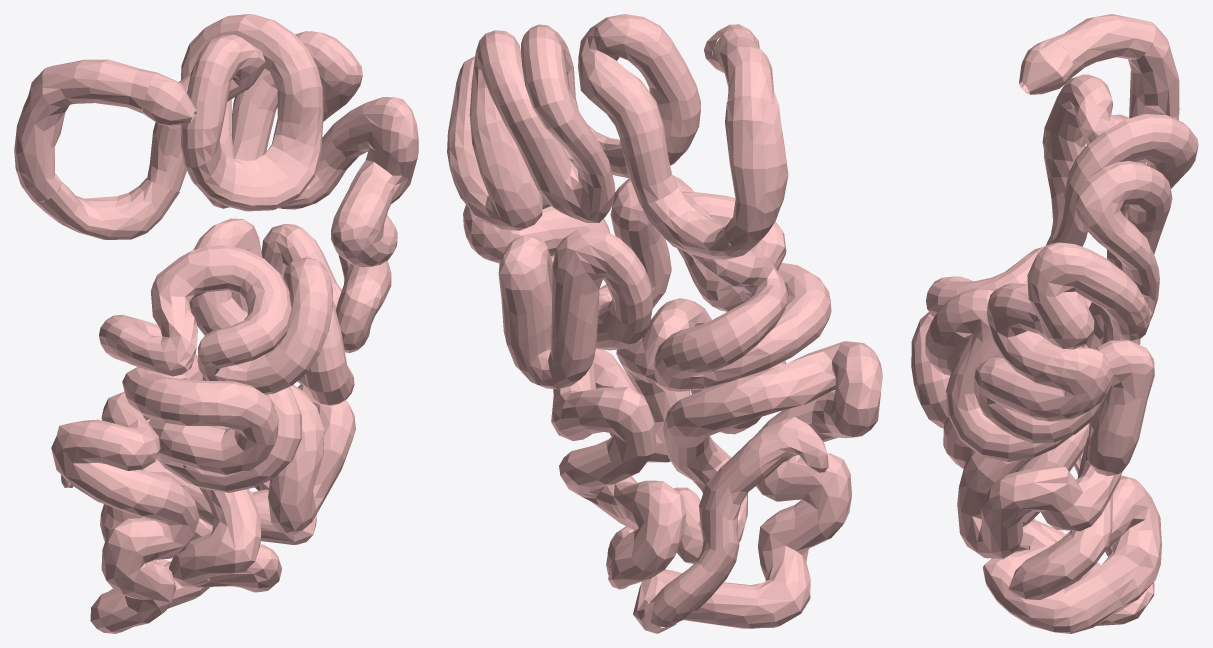
The model's file is VH_M_Small_Intestine_0.4.glb.
The picture shows the model from 3 angles, left to right: view 1: azimuth 30°, elevation 25°; view 2: azimuth 150°, elevation 25°; view 3: azimuth 270°, elevation 25°; orthographic projection. The views are drawn at different scales.
Parts seen in each view (by area): view 1: VH_M_jejunum, VH_M_ileum, VH_M_duodenum_horizonal, VH_M_duodenum_superior, VH_M_duodenum_descending, VH_M_duodenum_ascending, VH_M_duodenal_ampulla, VH_M_ileum_terminal; view 2: VH_M_jejunum, VH_M_ileum, VH_M_ileum_terminal, VH_M_duodenum_descending, VH_M_duodenum_ascending, VH_M_duodenum_horizonal, VH_M_duodenum_superior; view 3: VH_M_jejunum, VH_M_ileum, VH_M_duodenum_superior, VH_M_duodenum_descending, VH_M_duodenal_ampulla.
Part boxes in pixels (x1,y1,x2,y2): VH_M_jejunum: (99, 14, 418, 405); VH_M_ileum: (51, 367, 355, 633); VH_M_duodenum_horizonal: (33, 178, 179, 239); VH_M_duodenum_superior: (42, 59, 157, 113); VH_M_duodenum_descending: (14, 69, 70, 202); VH_M_duodenum_ascending: (147, 72, 245, 191); VH_M_duodenal_ampulla: (143, 73, 196, 125); VH_M_ileum_terminal: (61, 469, 157, 561); VH_M_jejunum: (447, 14, 787, 391); VH_M_ileum: (551, 262, 882, 633); VH_M_ileum_terminal: (644, 417, 828, 627); VH_M_duodenum_descending: (724, 96, 788, 249); VH_M_duodenum_ascending: (578, 49, 677, 205); VH_M_duodenum_horizonal: (641, 187, 762, 259); VH_M_duodenum_superior: (713, 29, 778, 105); VH_M_jejunum: (925, 74, 1198, 475); VH_M_ileum: (911, 312, 1161, 633); VH_M_duodenum_superior: (1052, 14, 1155, 76); VH_M_duodenum_descending: (1128, 23, 1179, 120); VH_M_duodenal_ampulla: (1019, 38, 1073, 94).
Size of the model in its own units: 0.1884 by 0.2656 by 0.1221.
